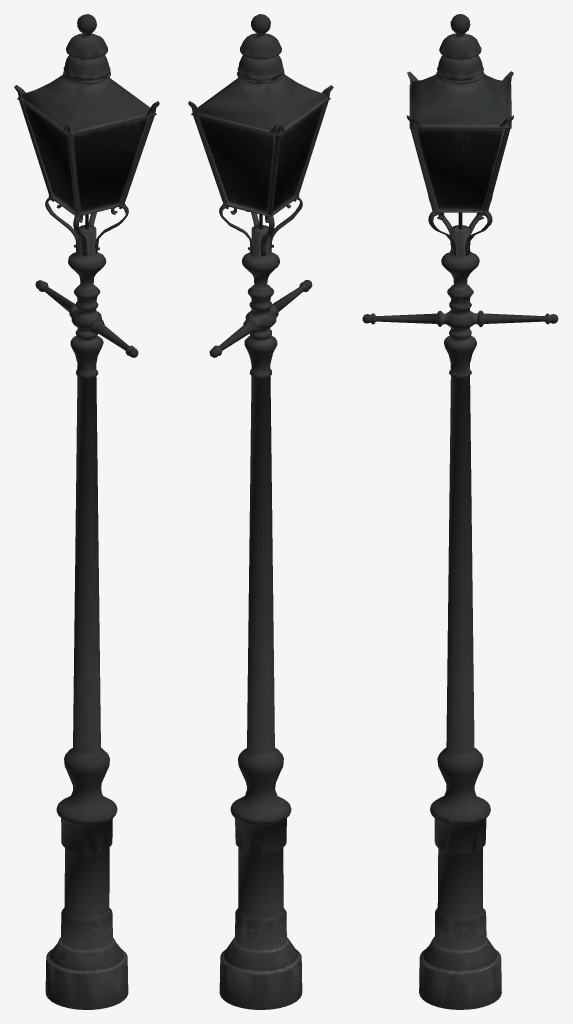
The model's file is prop-streetlight.glb.
The picture shows the model from 3 angles, left to right: view 1: azimuth 30°, elevation 25°; view 2: azimuth 150°, elevation 25°; view 3: azimuth 270°, elevation 25°; orthographic projection.
Visible parts, largest first — view 1: prop-streetlight; view 2: prop-streetlight; view 3: prop-streetlight.
Boxes of the visible parts, x1,y1,x2,y2 form: prop-streetlight: (14, 14, 159, 1009); prop-streetlight: (188, 14, 333, 1009); prop-streetlight: (362, 14, 558, 1009).
Size of the model in its own units: 0.5624 by 5.65 by 1.03.
Materials: 2 (2 with a texture image).
